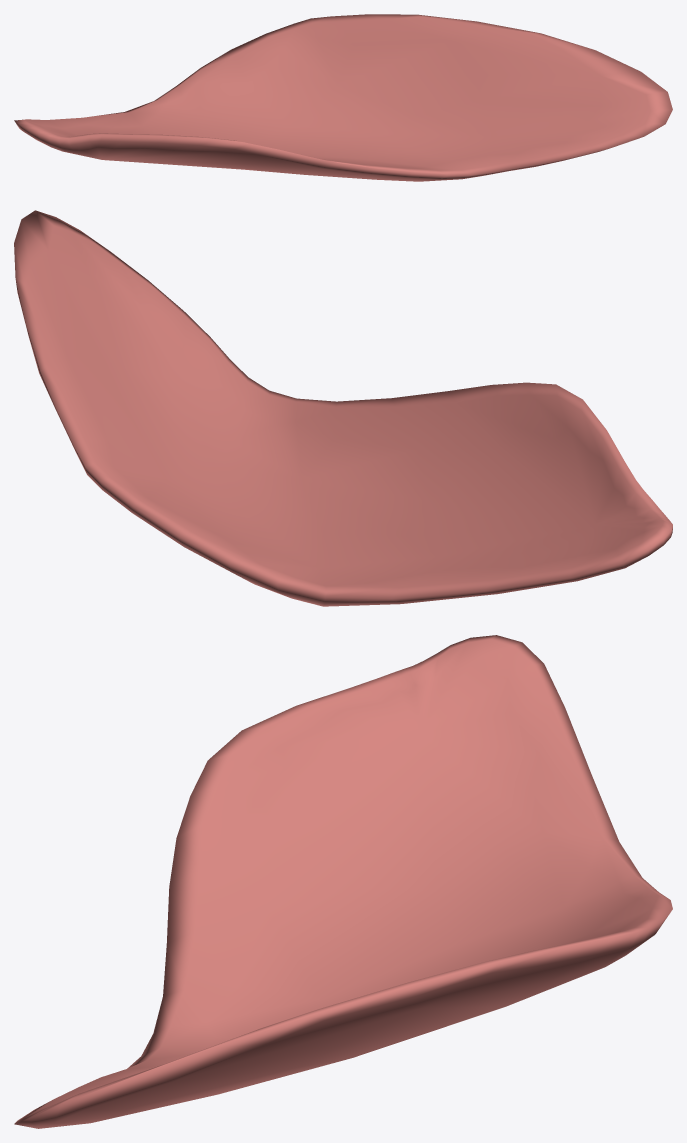
3 renders of one model, top to bottom at view 1: azimuth 30°, elevation 25°; view 2: azimuth 150°, elevation 25°; view 3: azimuth 270°, elevation 25°, orthographic. The views are drawn at different scales.
Visible parts, largest first — view 1: ZA_01e44522d4e2be51; view 2: ZA_01e44522d4e2be51; view 3: ZA_01e44522d4e2be51.
Part boxes in pixels (x1,y1,x2,y2): ZA_01e44522d4e2be51: [14, 14, 672, 181]; ZA_01e44522d4e2be51: [14, 210, 672, 606]; ZA_01e44522d4e2be51: [14, 635, 672, 1128].
Size of the model in its own units: 0.0207 by 0.00354 by 0.0126.
